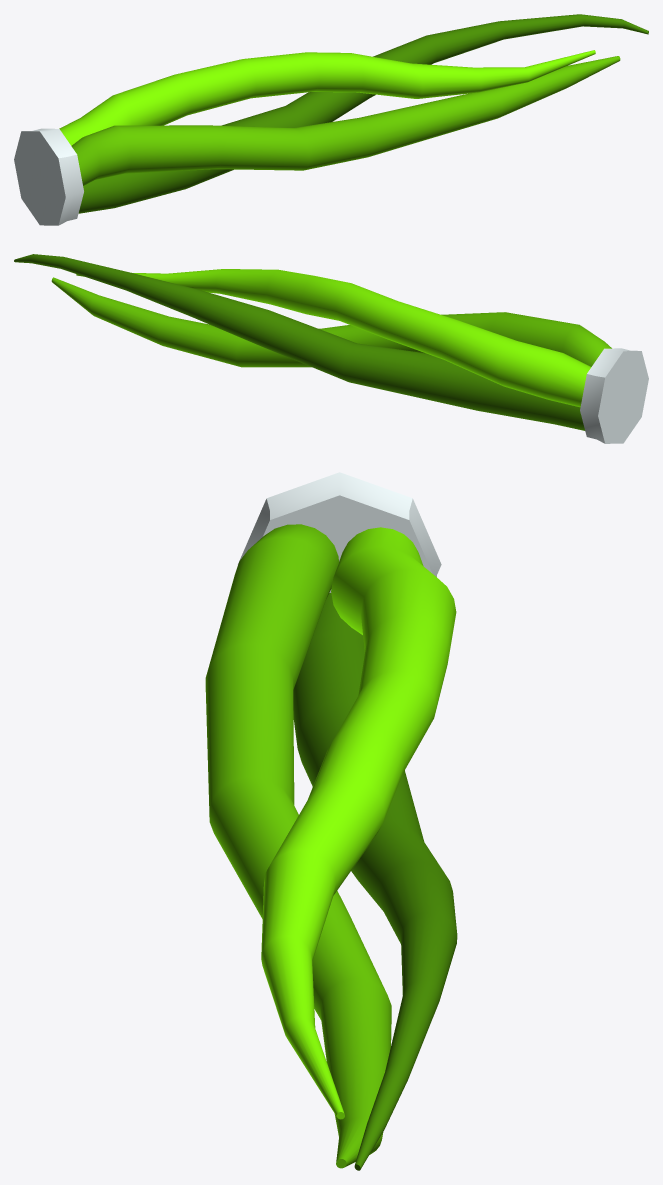
The model's file is FlowerFighter_Arm_v2_Rigged.fbx.
3 views of the same model, one above another, from view 1: azimuth 30°, elevation 25°; view 2: azimuth 150°, elevation 25°; view 3: azimuth 270°, elevation 25° (orthographic). The views are drawn at different scales.
Visible parts, largest first — view 1: Arm; view 2: Arm; view 3: Arm.
Boxes of the visible parts, <box> form: Arm: <box>14,14,648,225</box>; Arm: <box>14,254,648,443</box>; Arm: <box>205,472,457,1170</box>.
Bounding box in the file's own units: 718 × 124 × 130.
